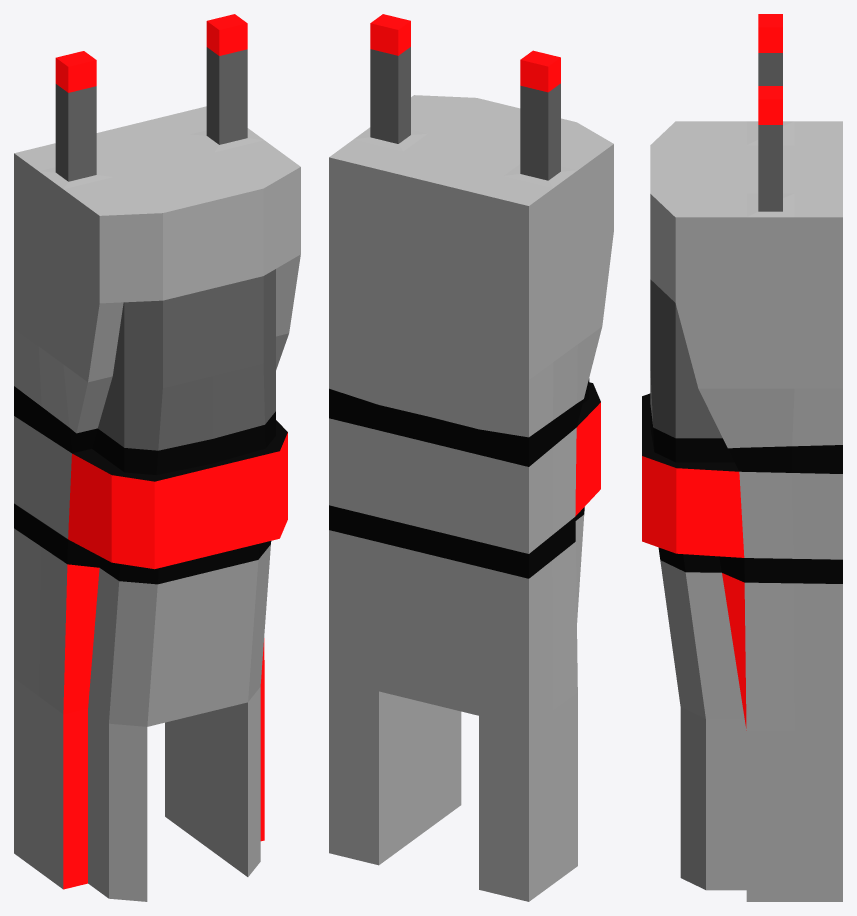
The model's file is scifi-lowpoly-building2.fbx.
3 renders of one model, left to right at view 1: azimuth 30°, elevation 25°; view 2: azimuth 150°, elevation 25°; view 3: azimuth 270°, elevation 25°, orthographic. The views are drawn at different scales.
Visible parts, largest first — view 1: gebouw3; view 2: gebouw3; view 3: gebouw3.
Part boxes in pixels (x1,y1,x2,y2): gebouw3: [14, 14, 300, 901]; gebouw3: [329, 14, 613, 901]; gebouw3: [642, 14, 842, 901].
Bounding box in the file's own units: 23.18 × 89.77 × 20.48.
